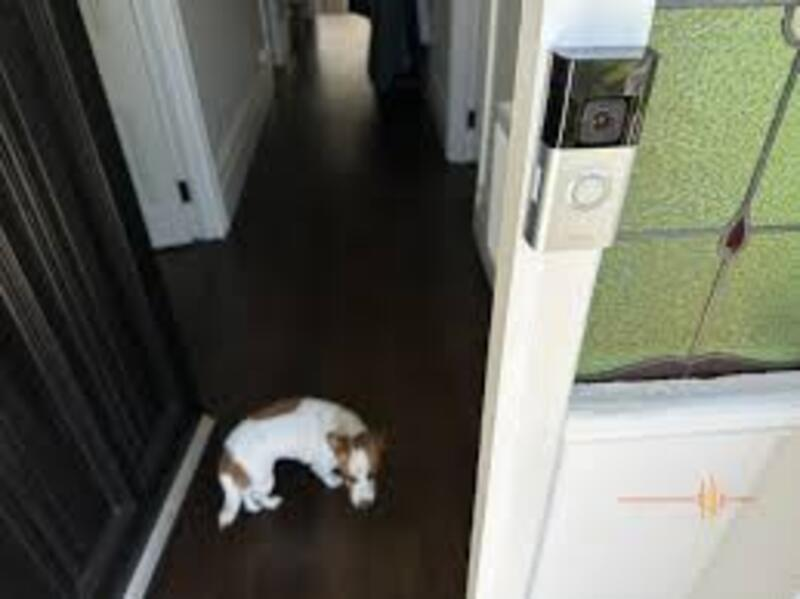doorbell: (535, 33, 646, 270)
